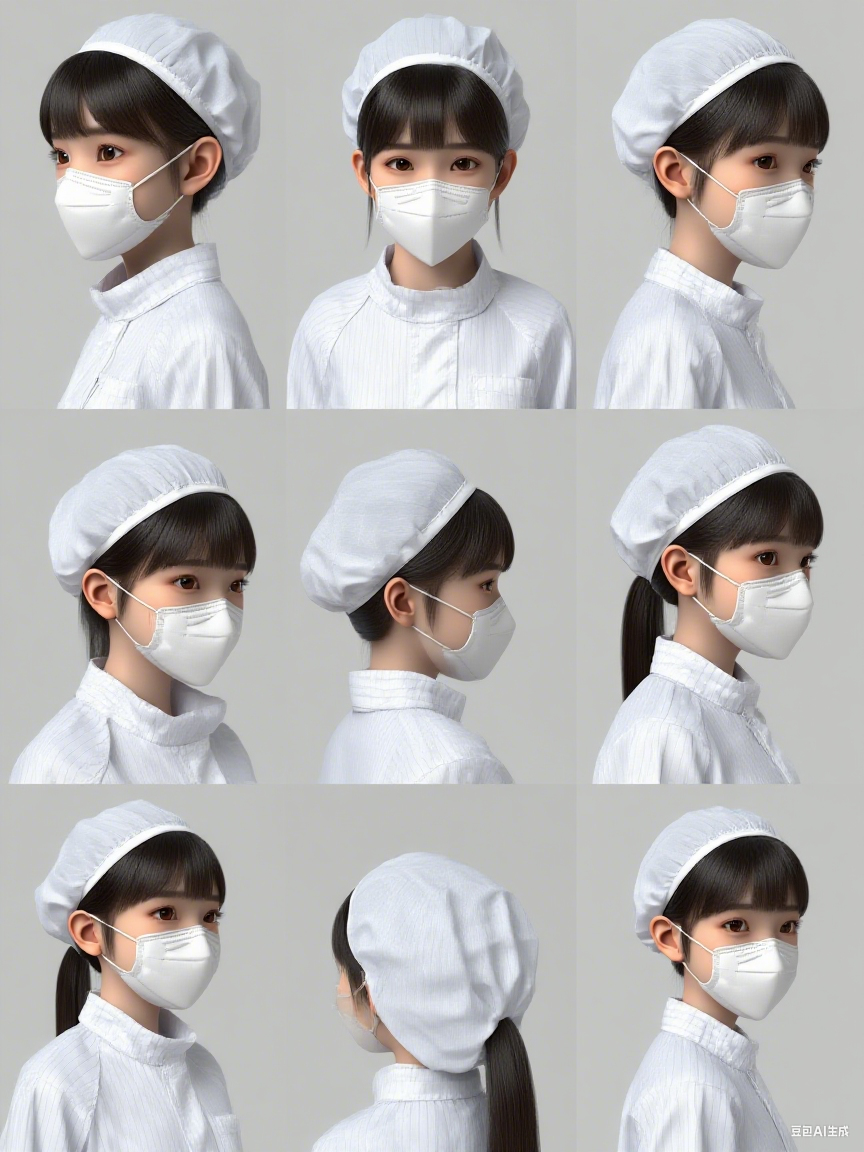MASK: (53, 172, 170, 260), (367, 182, 486, 261), (711, 570, 814, 660), (141, 601, 245, 686), (121, 926, 223, 1011), (712, 180, 809, 267), (700, 939, 799, 1020), (444, 595, 513, 684)
